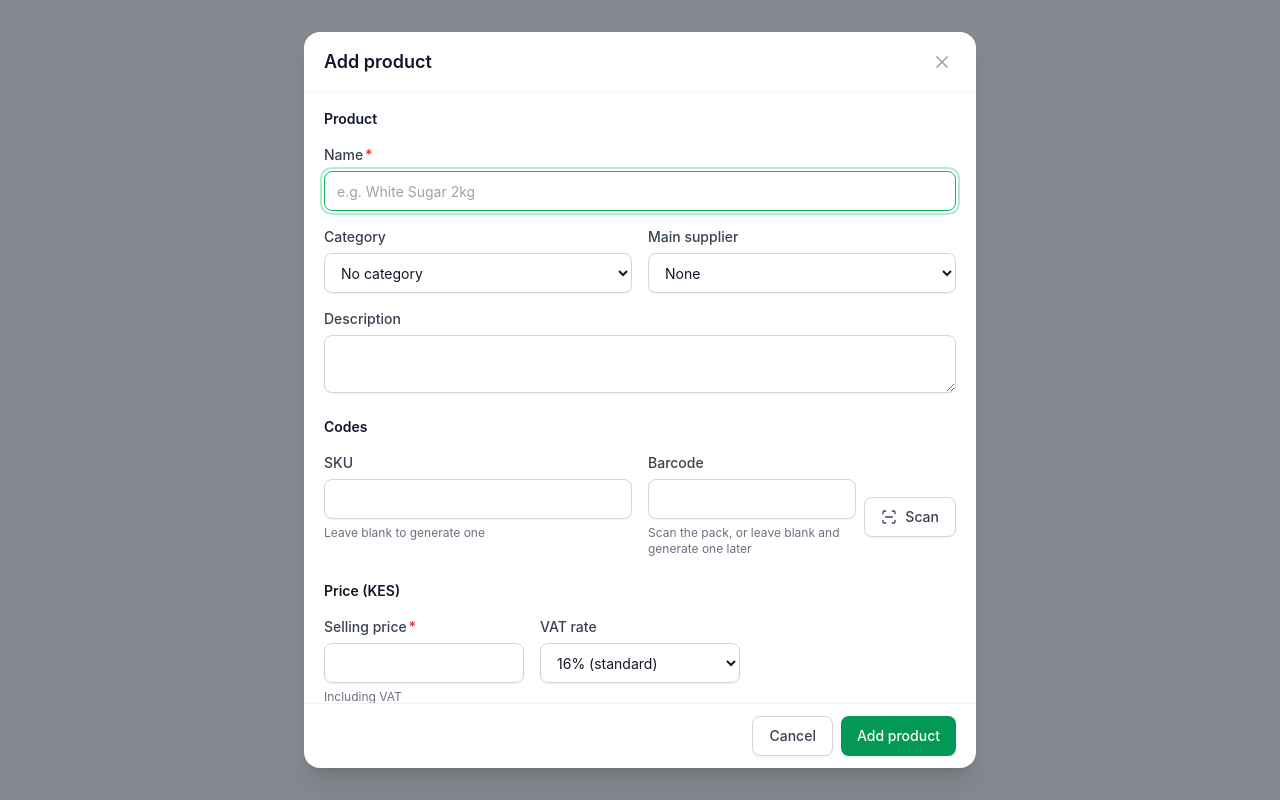
Test: ProductFormModal › validates prices and stock levels
Type "Bread" into the field labelled "Name*".
click(640, 191); type("Bread")  # box 324,171 -> 956,211
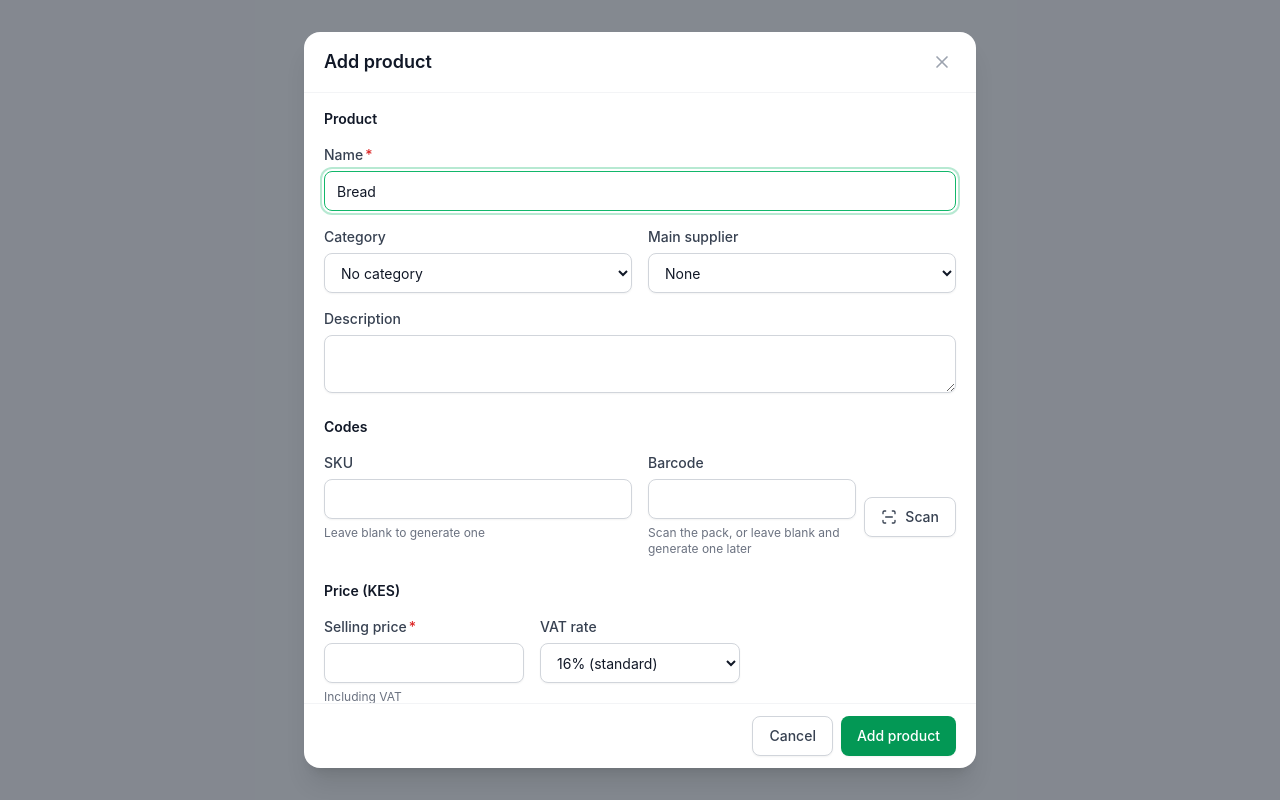
Type "70.555" into the field labelled "Selling price*".
click(424, 663); type("70.555")  # box 324,643 -> 524,683
(page scrolled)
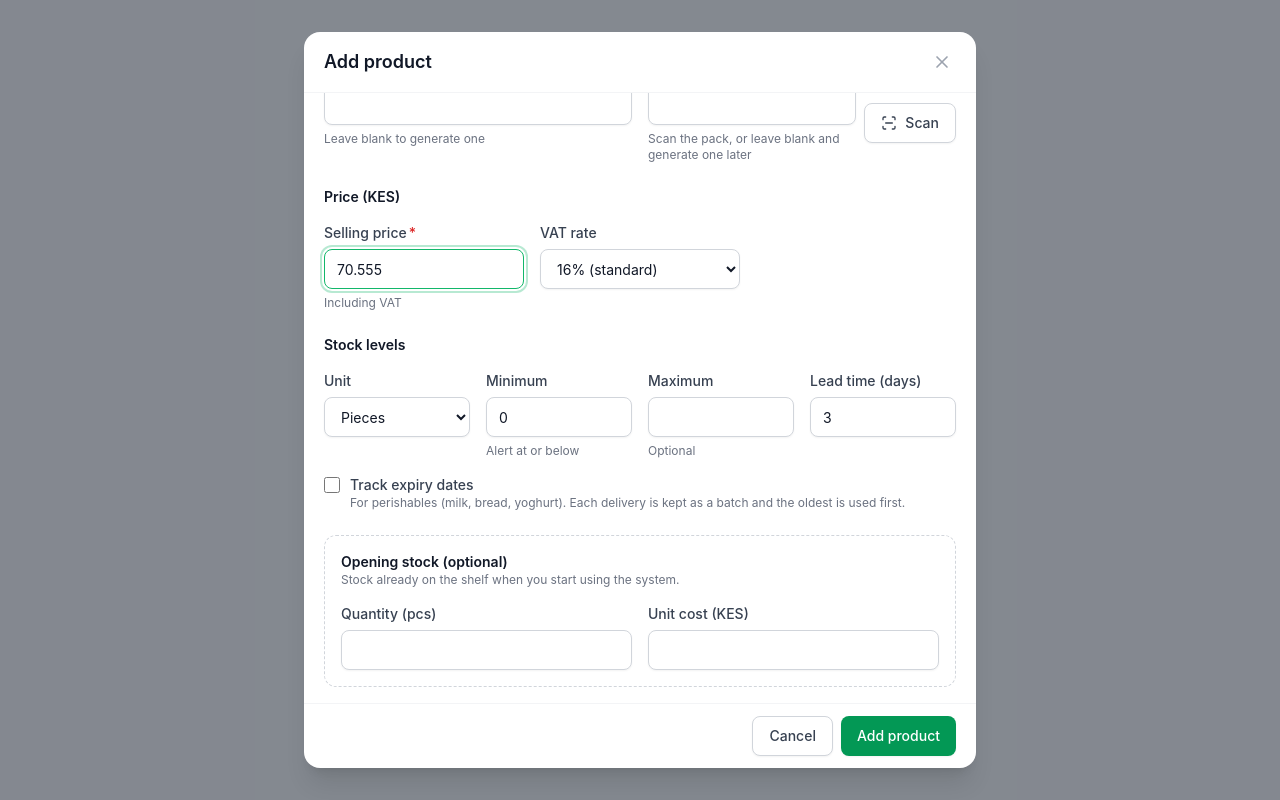
Replace the text in the field labelled "Minimum" with "10" at coordinates (559, 417), box 486,397 -> 632,437
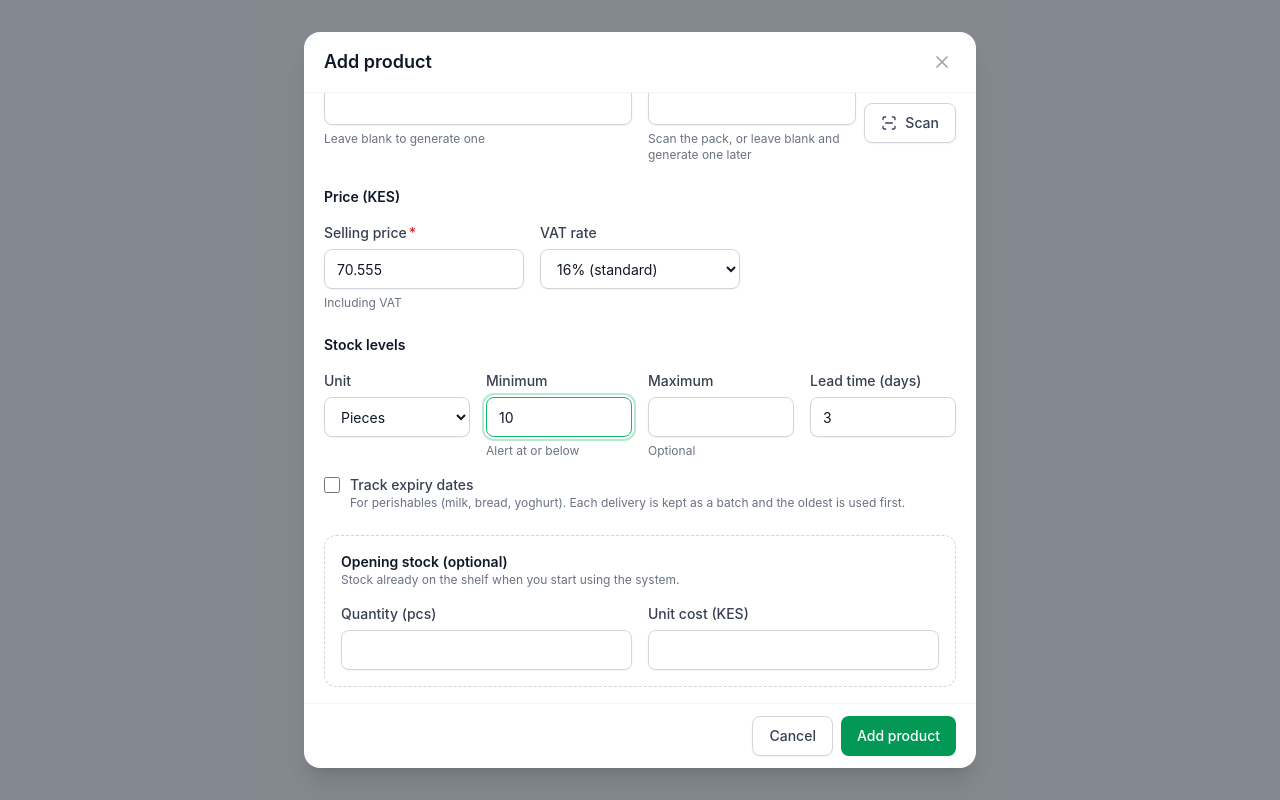
Type "5" into the field labelled "Maximum".
click(721, 417); type("5")  # box 648,397 -> 794,437
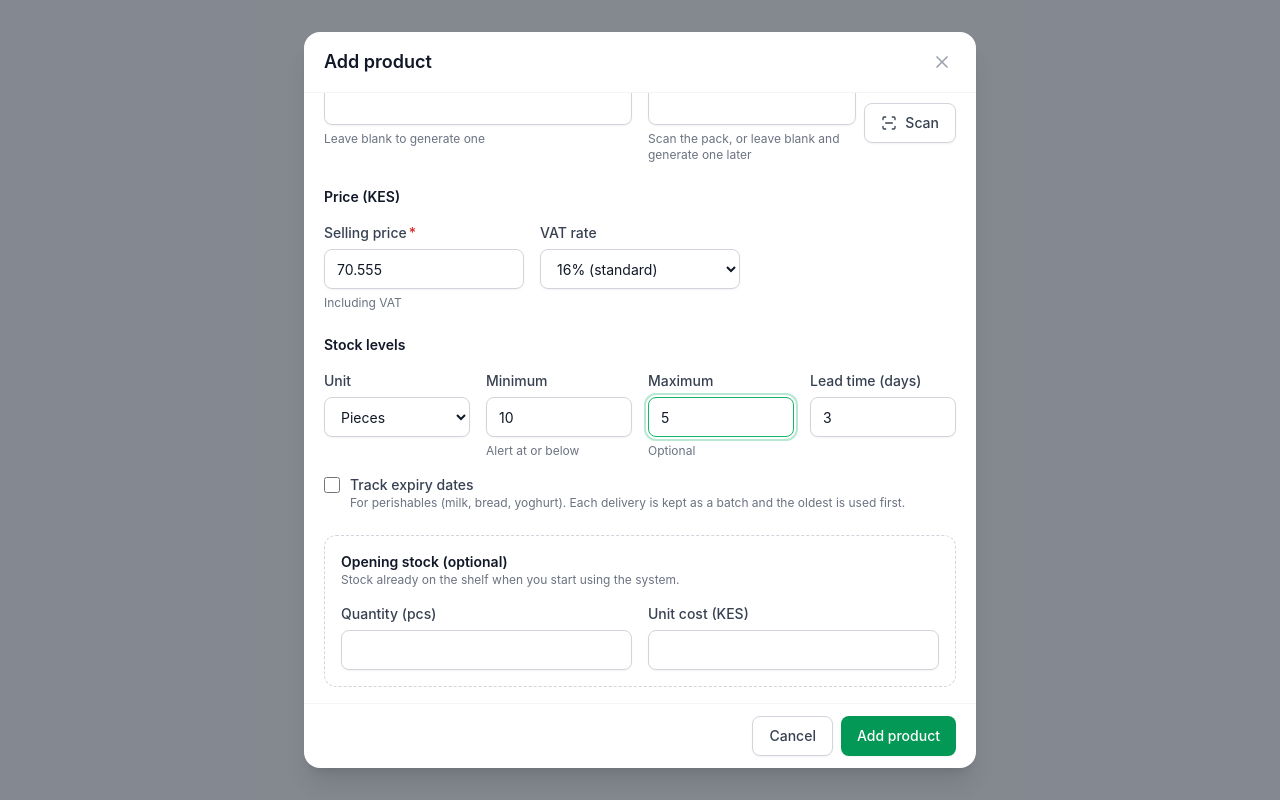
Click the button "Add product".
click(898, 736)  # box 841,716 -> 956,756
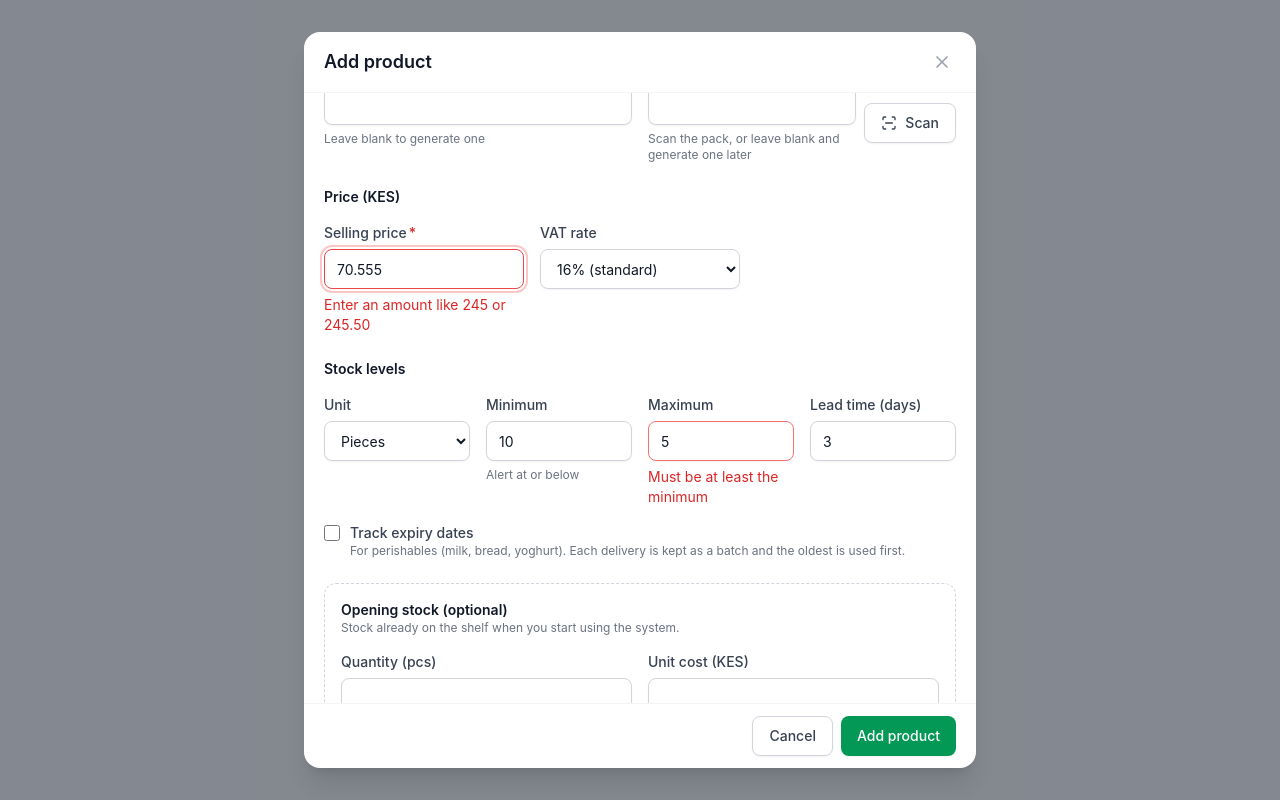
Now the text "Enter an amount like 245 or 245.50" is shown, box 324,295 -> 524,335
Now the text "Must be at least the minimum" is shown, box 648,467 -> 794,507
